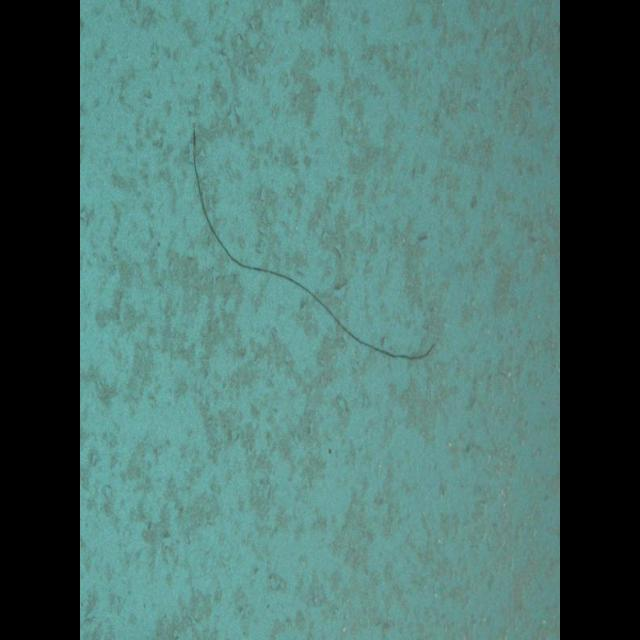Fibre: (191, 124, 437, 362)
